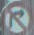Don't turn right: (0, 2, 33, 33)
